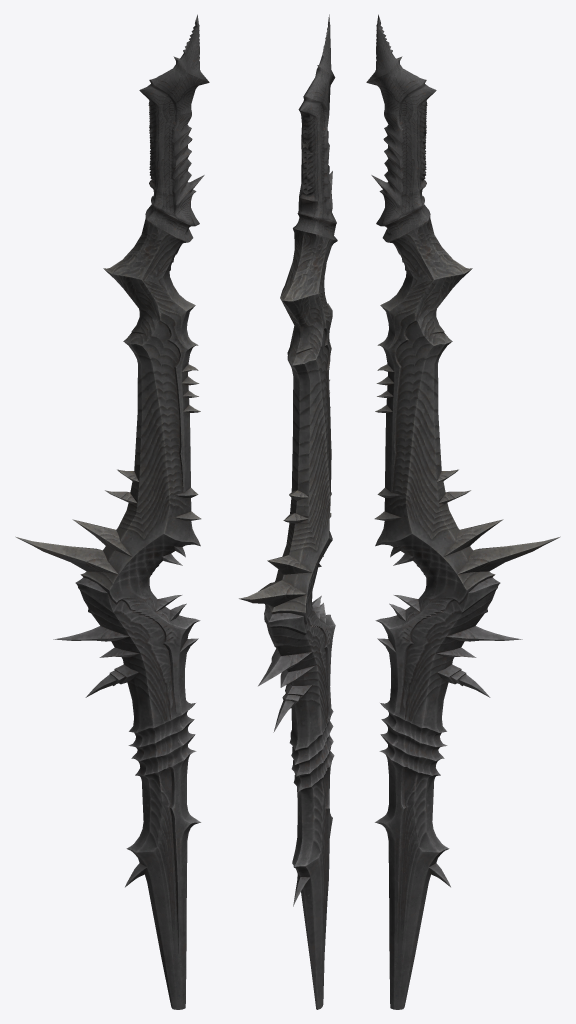
The model's file is bg_rad_kamen_pillar10_sm_alchemy.obj.
3 renders of one model, left to right at view 1: azimuth 90°, elevation 25°; view 2: azimuth 150°, elevation 25°; view 3: azimuth 270°, elevation 25°, orthographic.
Visible parts, largest first — view 1: bg_rad_kamen_pillar10_sm_alchemy_1, bg_rad_kamen_pillar10_sm_alchemy_0, bg_rad_kamen_pillar10_sm_alchemy_2; view 2: bg_rad_kamen_pillar10_sm_alchemy_0, bg_rad_kamen_pillar10_sm_alchemy_1, bg_rad_kamen_pillar10_sm_alchemy_2; view 3: bg_rad_kamen_pillar10_sm_alchemy_1, bg_rad_kamen_pillar10_sm_alchemy_0, bg_rad_kamen_pillar10_sm_alchemy_2.
Boxes of the visible parts, x1,y1,x2,y2 form: bg_rad_kamen_pillar10_sm_alchemy_1: (53,534,200,1009); bg_rad_kamen_pillar10_sm_alchemy_0: (15,215,201,592); bg_rad_kamen_pillar10_sm_alchemy_2: (139,14,209,242); bg_rad_kamen_pillar10_sm_alchemy_0: (239,229,337,615); bg_rad_kamen_pillar10_sm_alchemy_1: (258,538,335,1009); bg_rad_kamen_pillar10_sm_alchemy_2: (293,14,337,240); bg_rad_kamen_pillar10_sm_alchemy_1: (375,534,522,1009); bg_rad_kamen_pillar10_sm_alchemy_0: (374,215,560,592); bg_rad_kamen_pillar10_sm_alchemy_2: (366,14,436,242).
Size of the model in its own units: 0.6697 by 15.24 by 2.72.
Materials: 3 (3 with a texture image).
